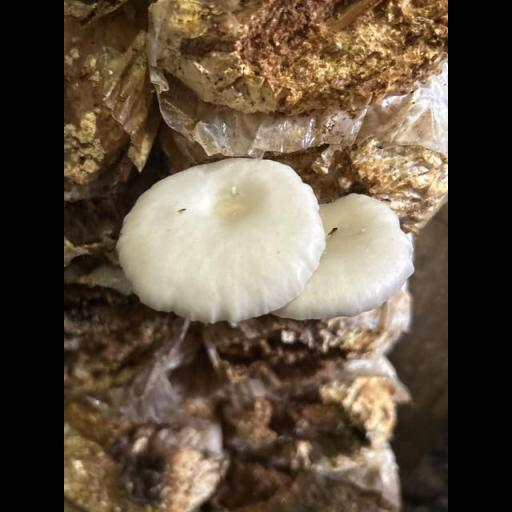White Oyster Mushroom: (118, 155, 415, 324)
